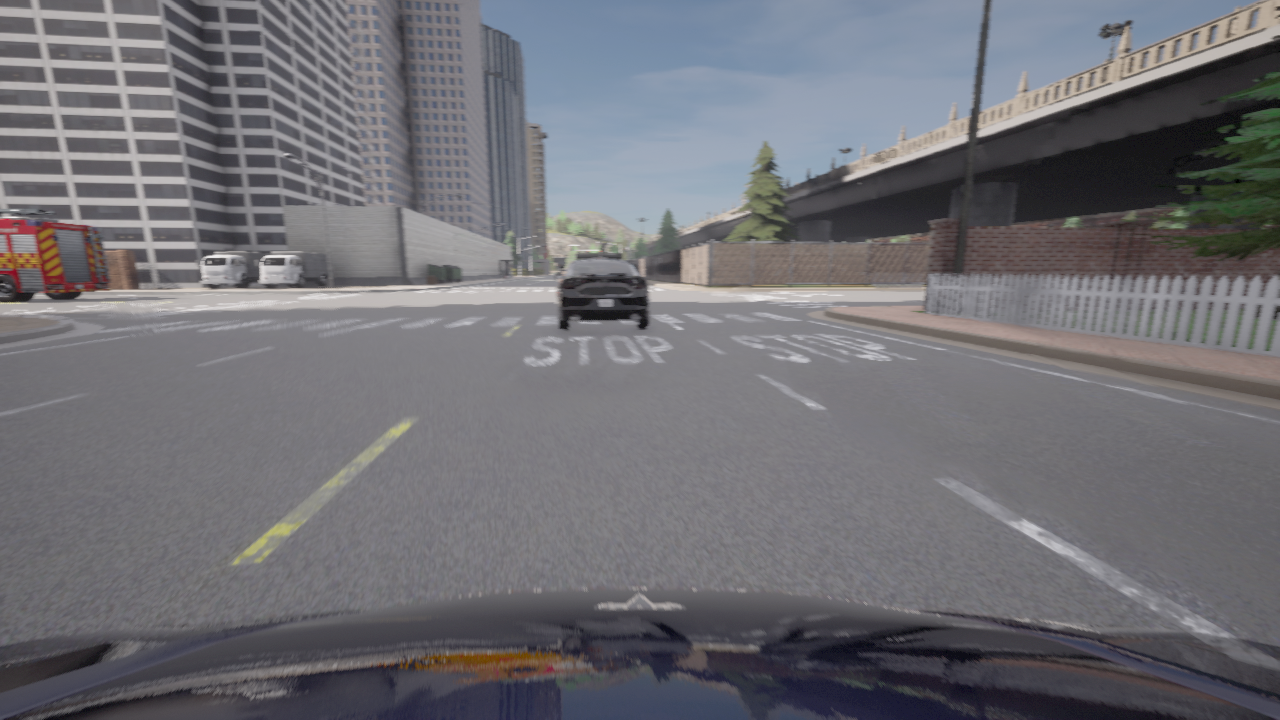cyclist: (0, 588, 1279, 719), (555, 253, 649, 329), (196, 251, 270, 288), (255, 252, 329, 287)
